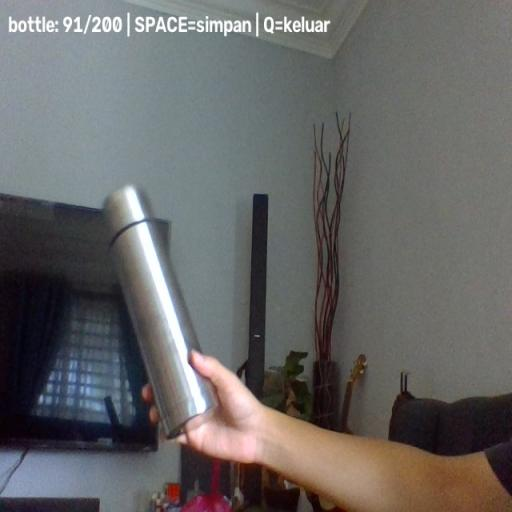Bottle: (102, 184, 219, 438)
